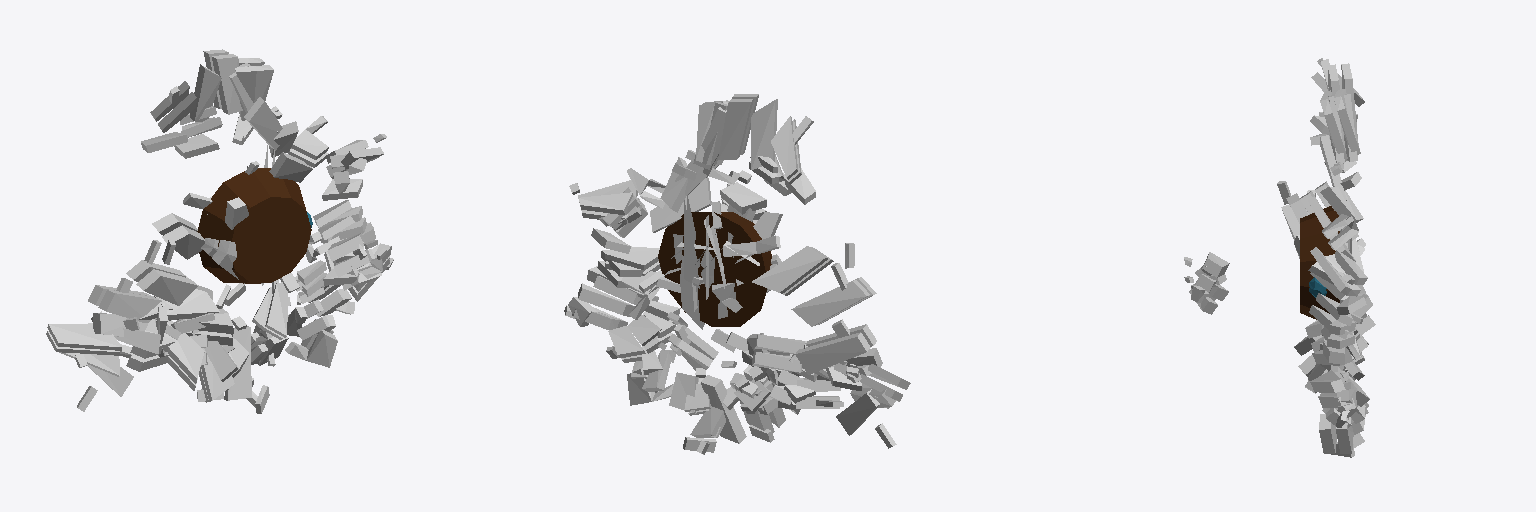
3 views of the same model, side by side, from view 1: azimuth 30°, elevation 25°; view 2: azimuth 150°, elevation 25°; view 3: azimuth 270°, elevation 25° (orthographic).
Visible parts, largest first — view 1: Cone_Cone_cover, Cone.001_Cone.001_cover, Cylinder_Cylinder_Material.001; view 2: Cone_Cone_cover, Cone.001_Cone.001_cover, Cylinder_Cylinder_Material.001, Plane_Plane_Material.003; view 3: Cone.001_Cone.001_cover, Cone_Cone_cover, Cylinder_Cylinder_Material.001.
Part boxes in pixels (left/top/right/bottom): Cone_Cone_cover: left=88, top=121, right=393, bottom=413; Cone.001_Cone.001_cover: left=46, top=49, right=386, bottom=411; Cylinder_Cylinder_Material.001: left=197, top=168, right=311, bottom=283; Cone_Cone_cover: left=564, top=157, right=882, bottom=454; Cone.001_Cone.001_cover: left=569, top=94, right=910, bottom=448; Cylinder_Cylinder_Material.001: left=658, top=212, right=771, bottom=326; Plane_Plane_Material.003: left=665, top=195, right=759, bottom=329; Cone.001_Cone.001_cover: left=1191, top=58, right=1368, bottom=407; Cone_Cone_cover: left=1184, top=181, right=1375, bottom=457; Cylinder_Cylinder_Material.001: left=1300, top=206, right=1339, bottom=319.
Bounding box in the file's own units: 3.42 × 3.53 × 1.67.
4 materials, 1 textured.